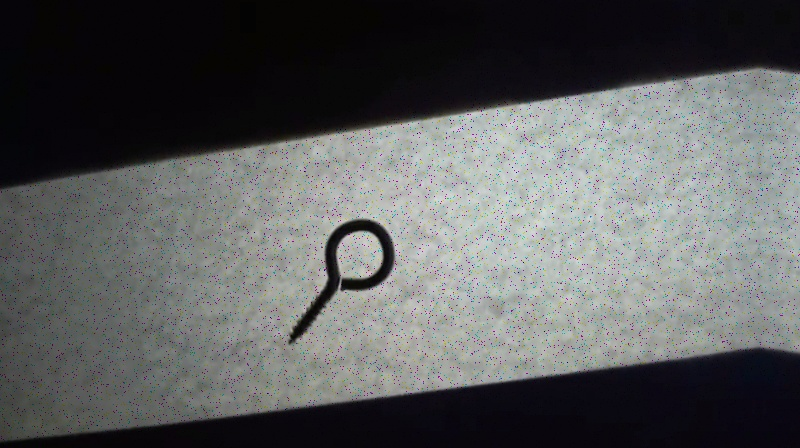O001: (285, 216, 398, 349)
